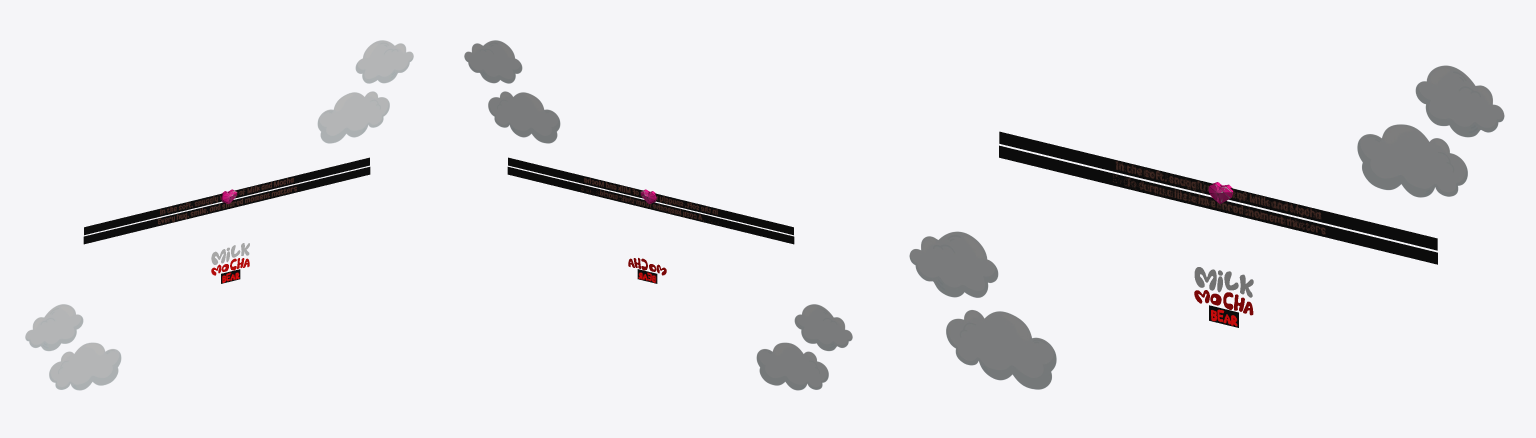
The model's file is common.glb.
3 views of the same model, side by side, from view 1: azimuth 30°, elevation 25°; view 2: azimuth 150°, elevation 25°; view 3: azimuth 330°, elevation 25° (orthographic). The views are drawn at different scales.
Visible parts, largest first — view 1: Plane, Plane2, Plane.002, Plane.001; view 2: Plane, Plane2, Plane.001, Plane.004, Plane.002; view 3: Plane2, Plane, Plane.001, Plane.002, Plane.003, Plane.004, Plane.006, Logo, LogoLine.
Boxes of the visible parts, left/top/right/bottom form: Plane: left=317, top=40, right=413, bottom=143; Plane2: left=25, top=304, right=121, bottom=390; Plane.002: left=84, top=167, right=369, bottom=244; Plane.001: left=84, top=157, right=369, bottom=235; Plane: left=464, top=40, right=560, bottom=143; Plane2: left=756, top=304, right=852, bottom=390; Plane.001: left=508, top=157, right=793, bottom=235; Plane.004: left=508, top=167, right=793, bottom=244; Plane.002: left=508, top=167, right=793, bottom=243; Plane2: left=909, top=231, right=1056, bottom=389; Plane: left=1357, top=65, right=1504, bottom=197; Plane.001: left=999, top=132, right=1437, bottom=250; Plane.002: left=999, top=145, right=1437, bottom=264; Plane.003: left=999, top=131, right=1437, bottom=249; Plane.004: left=999, top=146, right=1436, bottom=263; Plane.006: left=999, top=146, right=1437, bottom=264; Logo: left=1194, top=267, right=1253, bottom=297; LogoLine: left=1194, top=290, right=1253, bottom=315.
Size of what is drawn, in the model's own units: 7.2 by 5.21 by 0.1078.
Materials: 6 (5 with a texture image).
